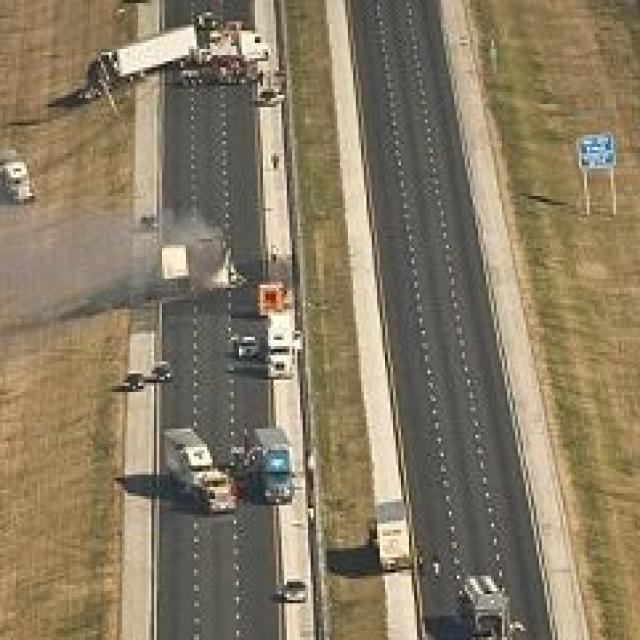traffic_incident: (48, 193, 223, 328), (85, 12, 263, 104)
